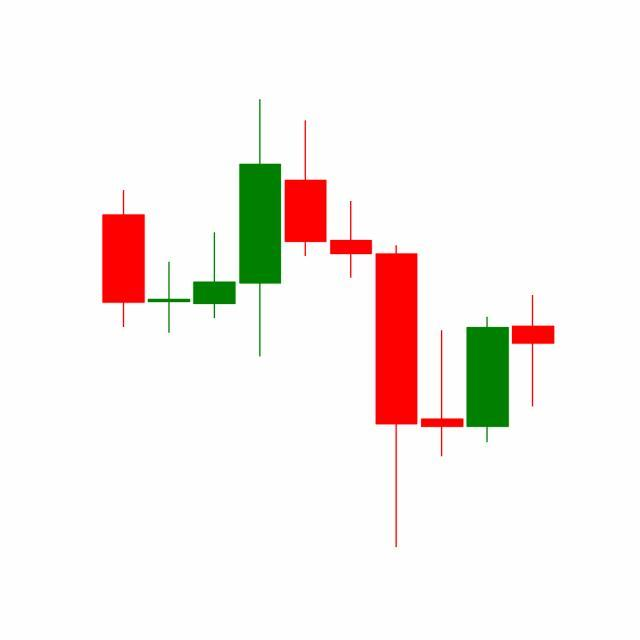Hikkake Pattern: (283, 116, 512, 549)
